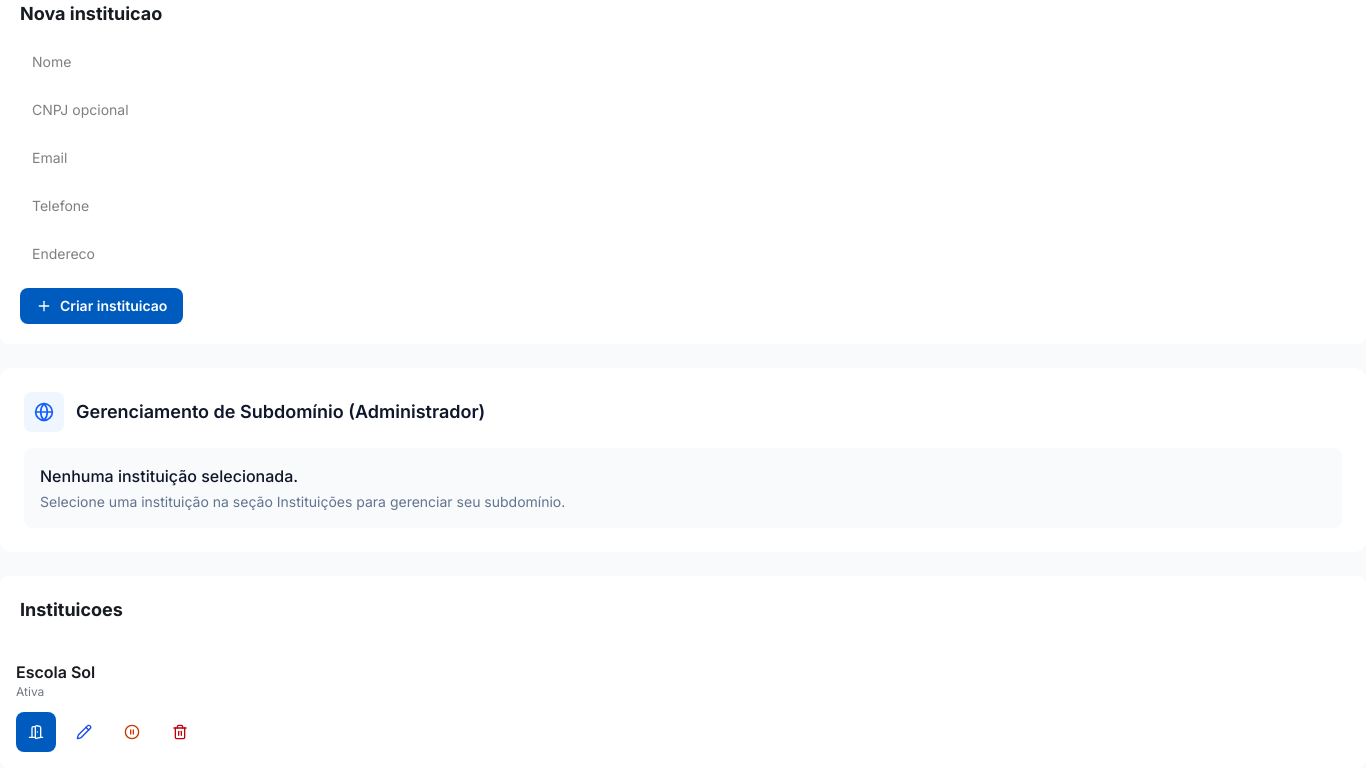
Test: AccountPage › mantem modal aberto quando o backend falha
(page scrolled)
Click the button named "Editar instituicao Escola Sol" at (84, 732), box [64, 712, 104, 752]
(page scrolled)
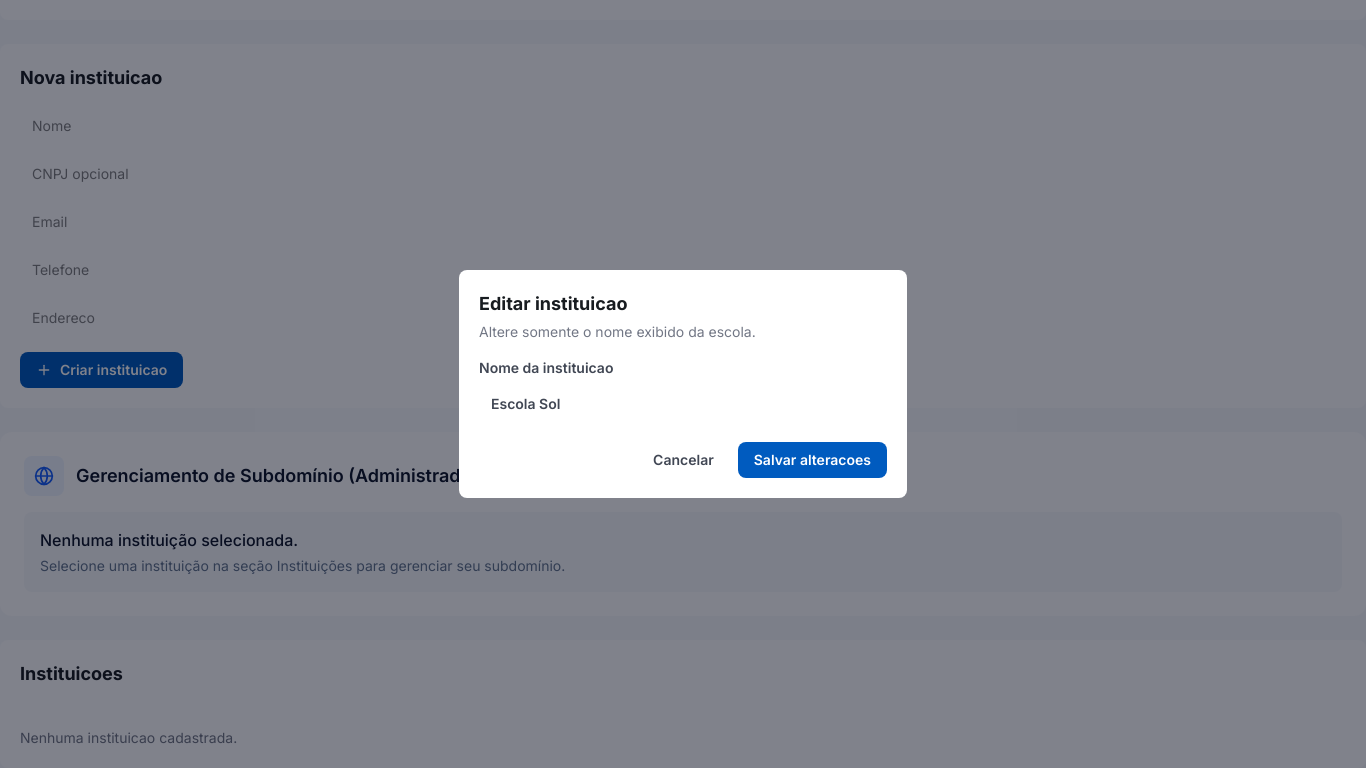
Replace the text in the field labelled "Nome da instituicao" with "Colegio Sol" at (683, 404), box [479, 386, 887, 422]
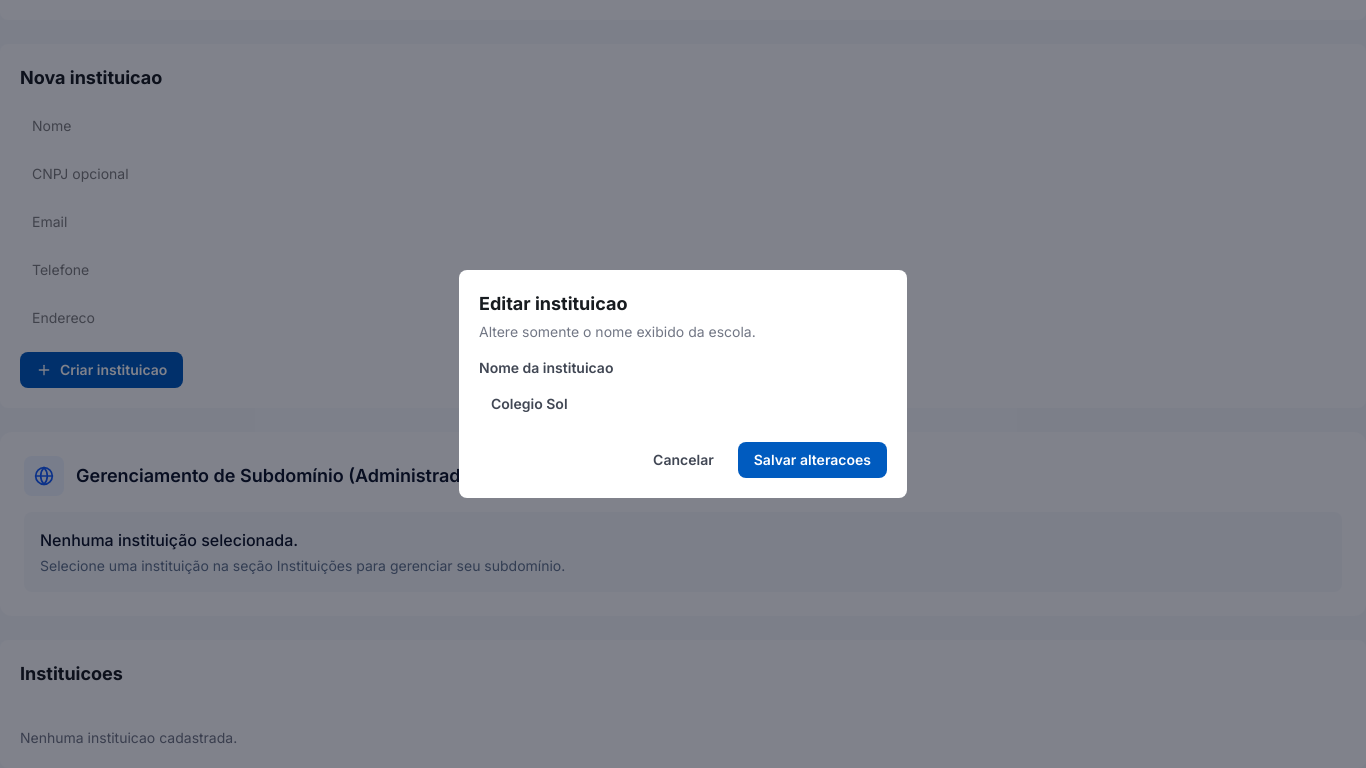
Click the button "Salvar alteracoes" at (812, 460), box [738, 442, 887, 478]
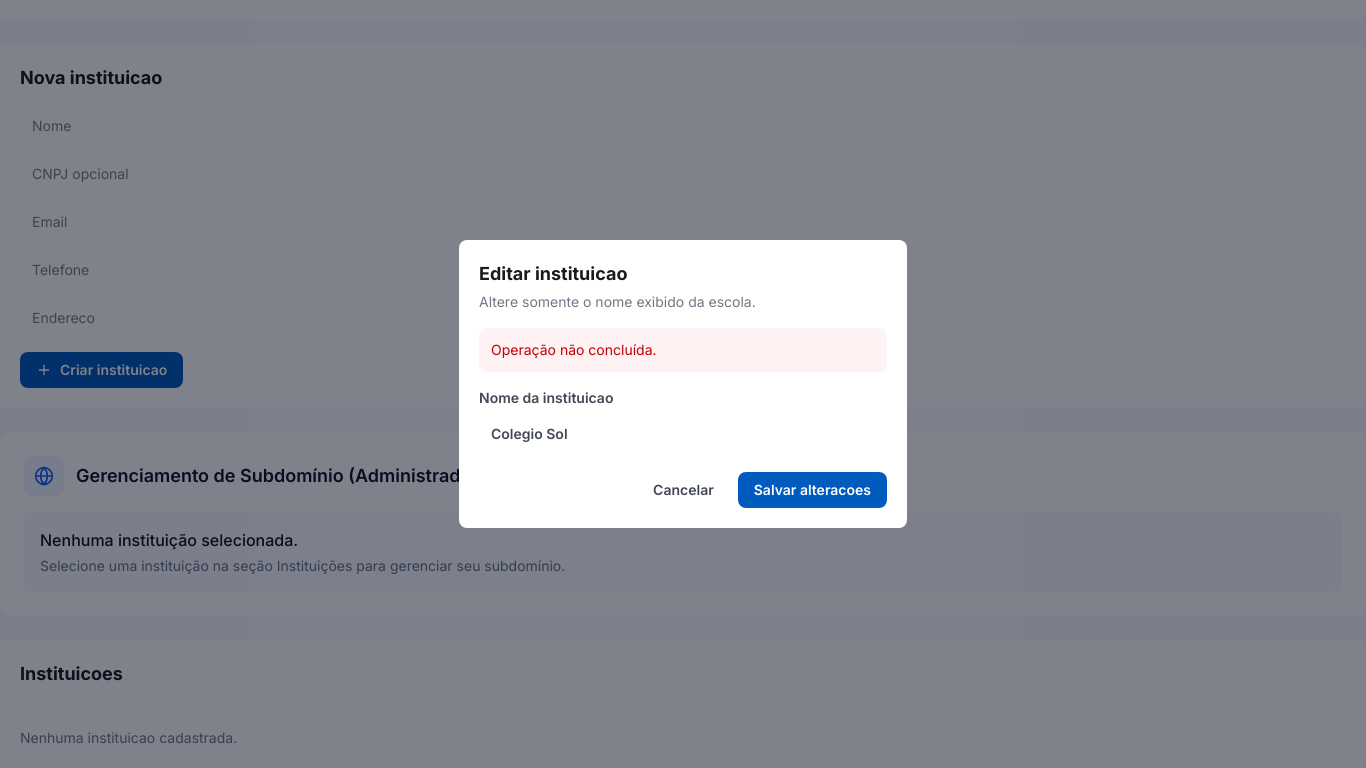
Check: the form "Editar instituicao" is shown, box [459, 240, 907, 528]
Check: the text "Operação não concluída." is shown, box [479, 328, 887, 372]
